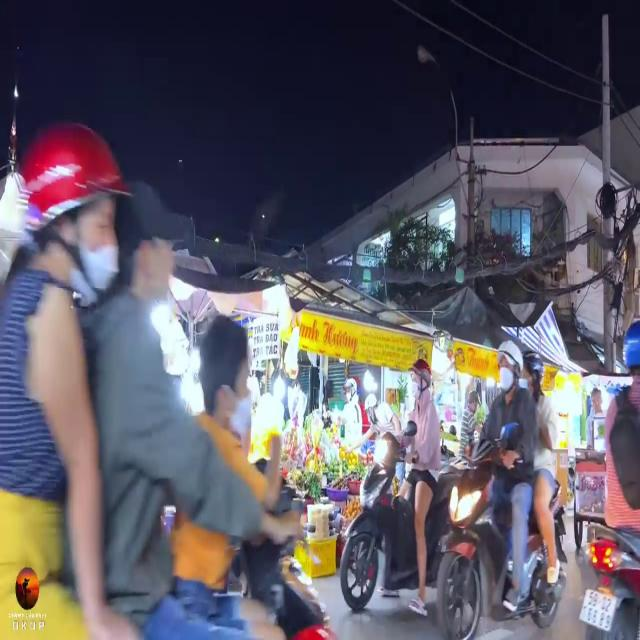bien_trang: (580, 577, 624, 640)
